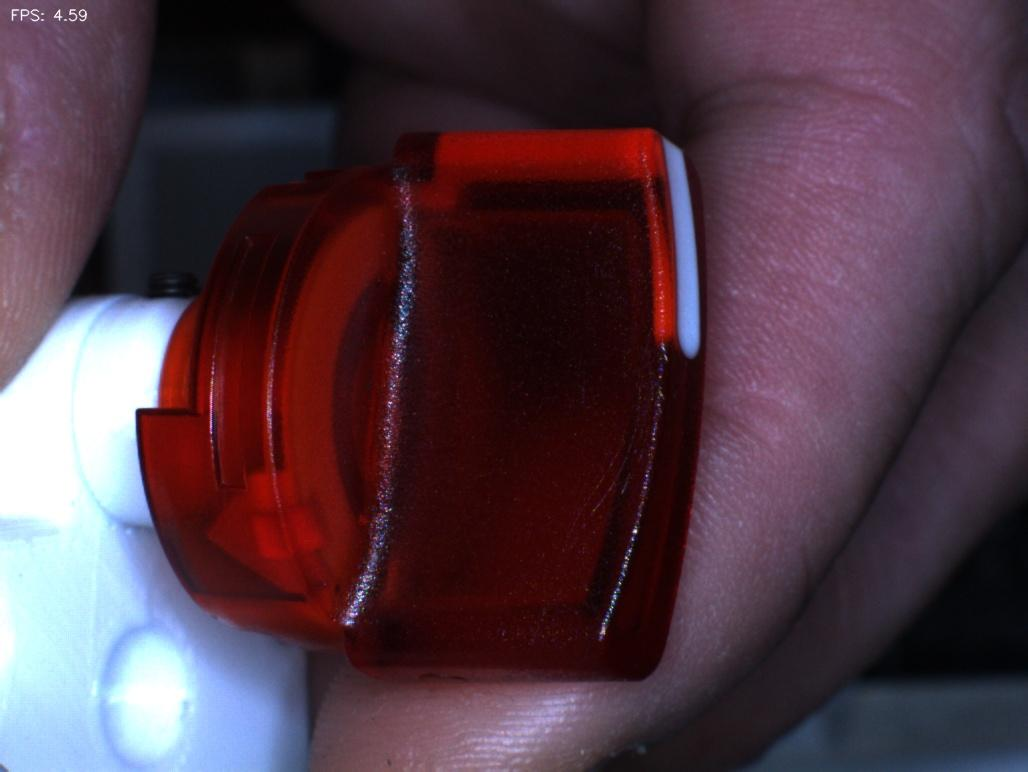Givrage: (558, 351, 669, 551)
